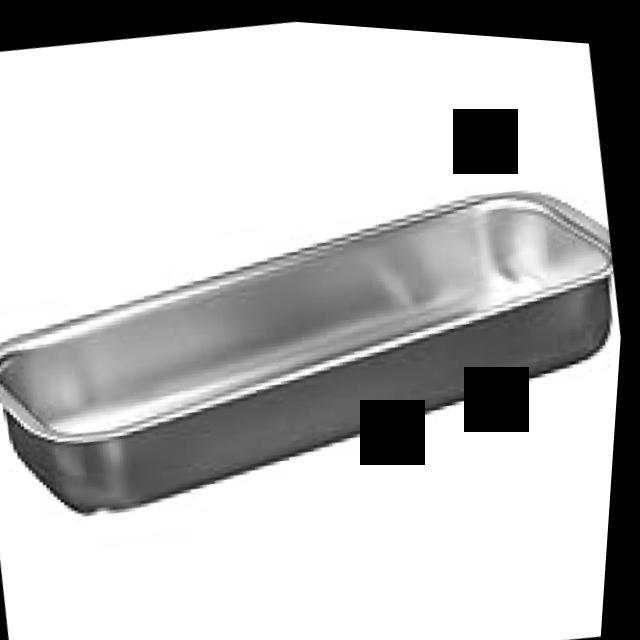Catheter Tray: (0, 114, 634, 562)
